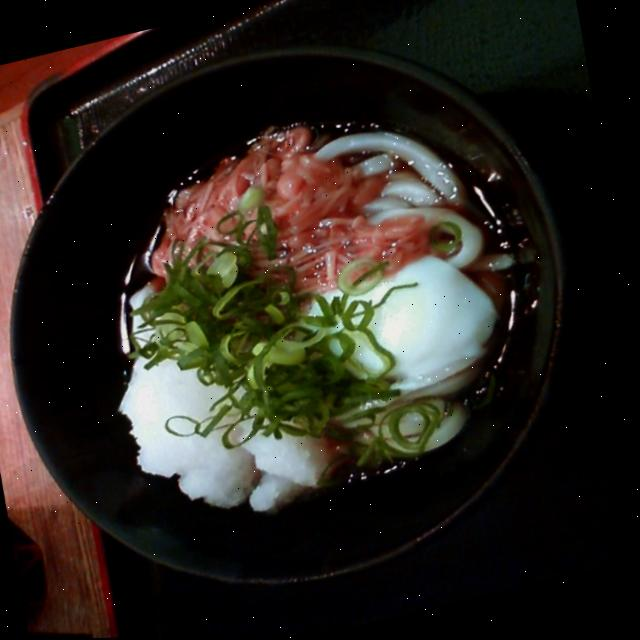面条主食: (46, 84, 574, 565)
